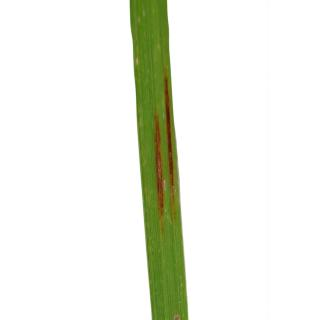Bercak-Cokelat-Sempit: (144, 109, 168, 247), (160, 71, 178, 230)
